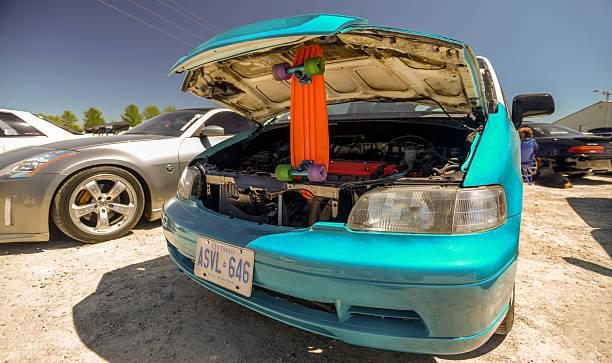licence: (187, 232, 261, 299)
